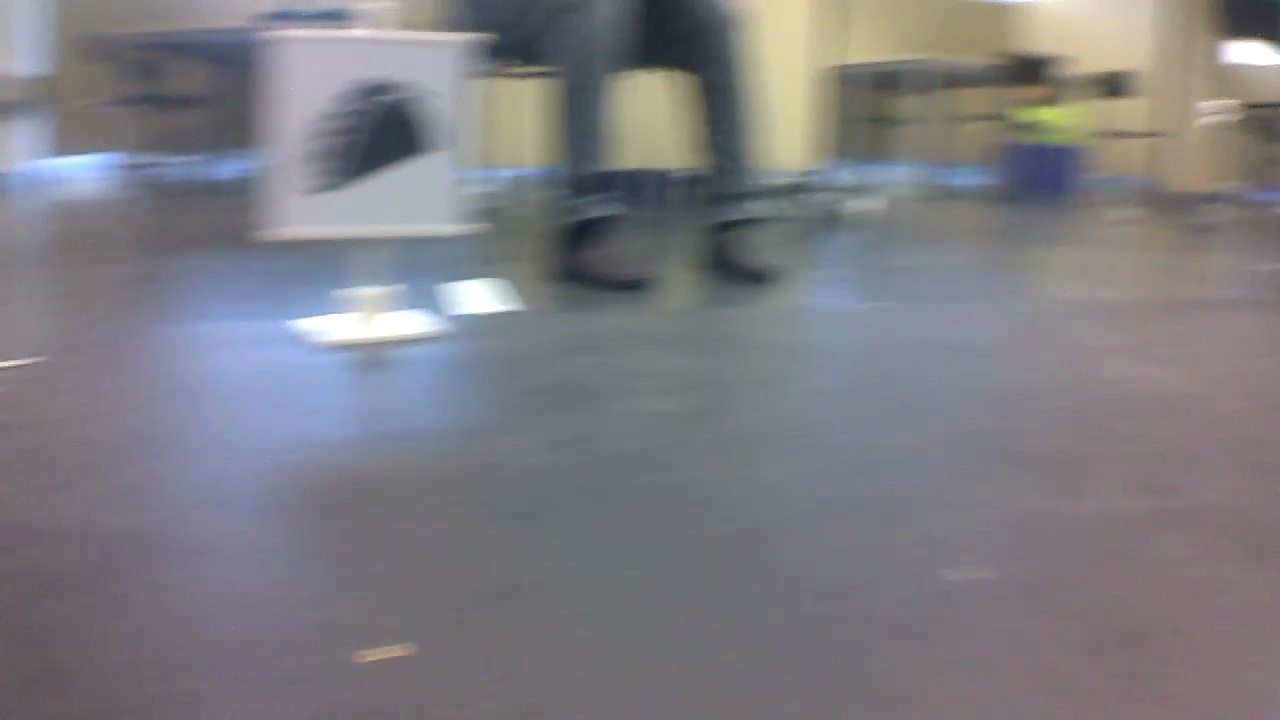taco: (286, 71, 448, 203)
